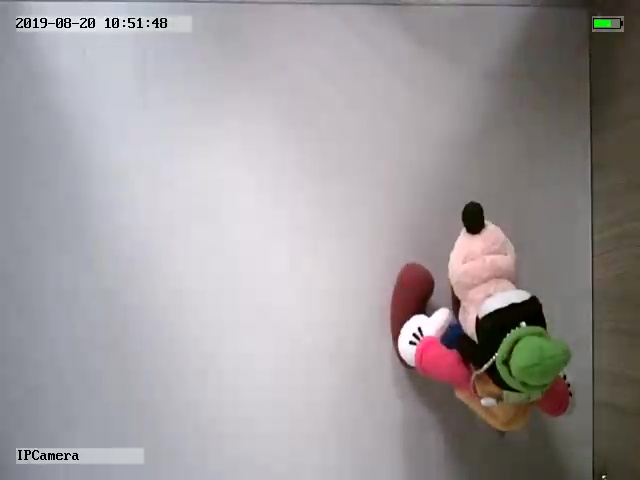goofy: (390, 200, 577, 433)
